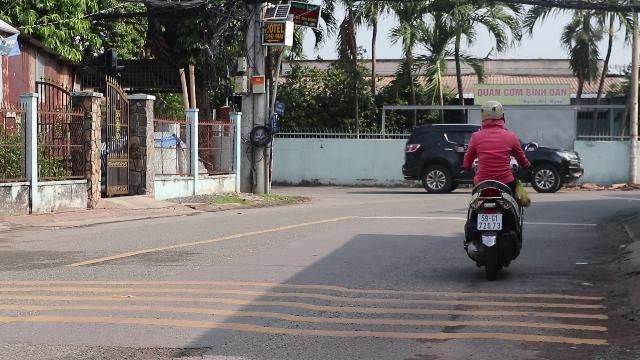helmet: (478, 100, 506, 128)
licenseplate: (478, 214, 502, 230)
motorcyclist: (458, 99, 532, 276)
